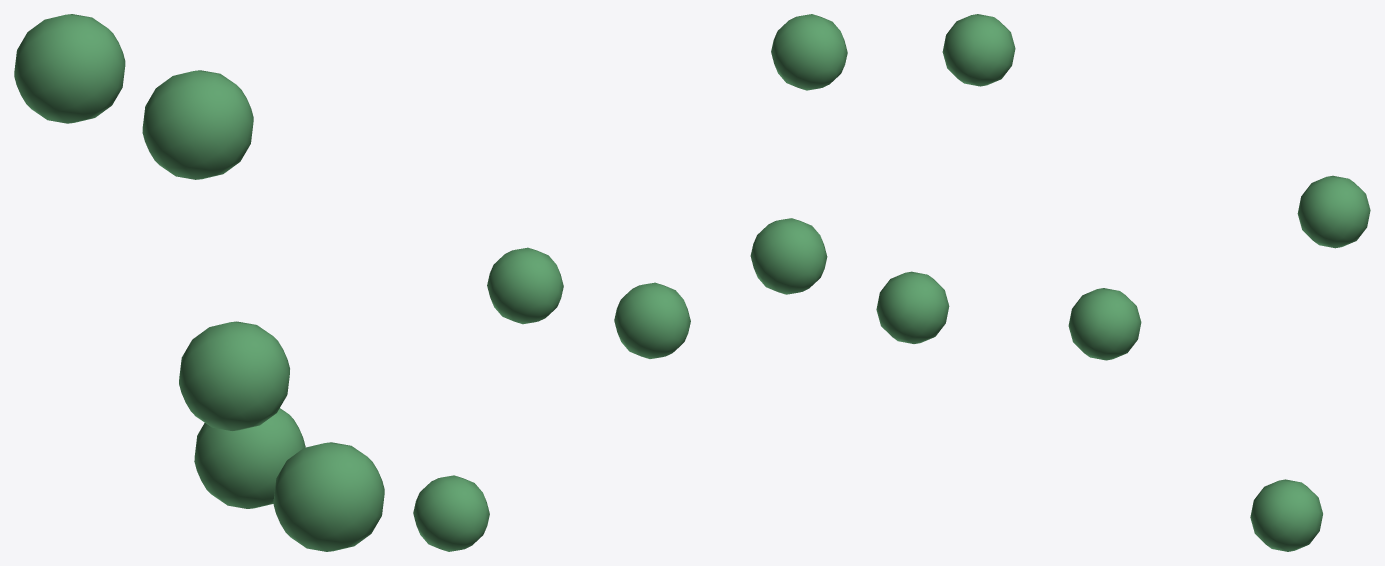
3 views of the same model, side by side, from view 1: azimuth 30°, elevation 25°; view 2: azimuth 150°, elevation 25°; view 3: azimuth 270°, elevation 25° (orthographic). The views are drawn at different scales.
Visible parts, largest first — view 1: 右侧乳突淋巴结; view 2: 右侧乳突淋巴结; view 3: 右侧乳突淋巴结.
Part boxes in pixels (x1,y1,x2,y2): 右侧乳突淋巴结: [14, 14, 384, 551]; 右侧乳突淋巴结: [413, 14, 847, 551]; 右侧乳突淋巴结: [876, 14, 1370, 551].
Size of the model in its own units: 0.0151 by 0.0253 by 0.0258.
